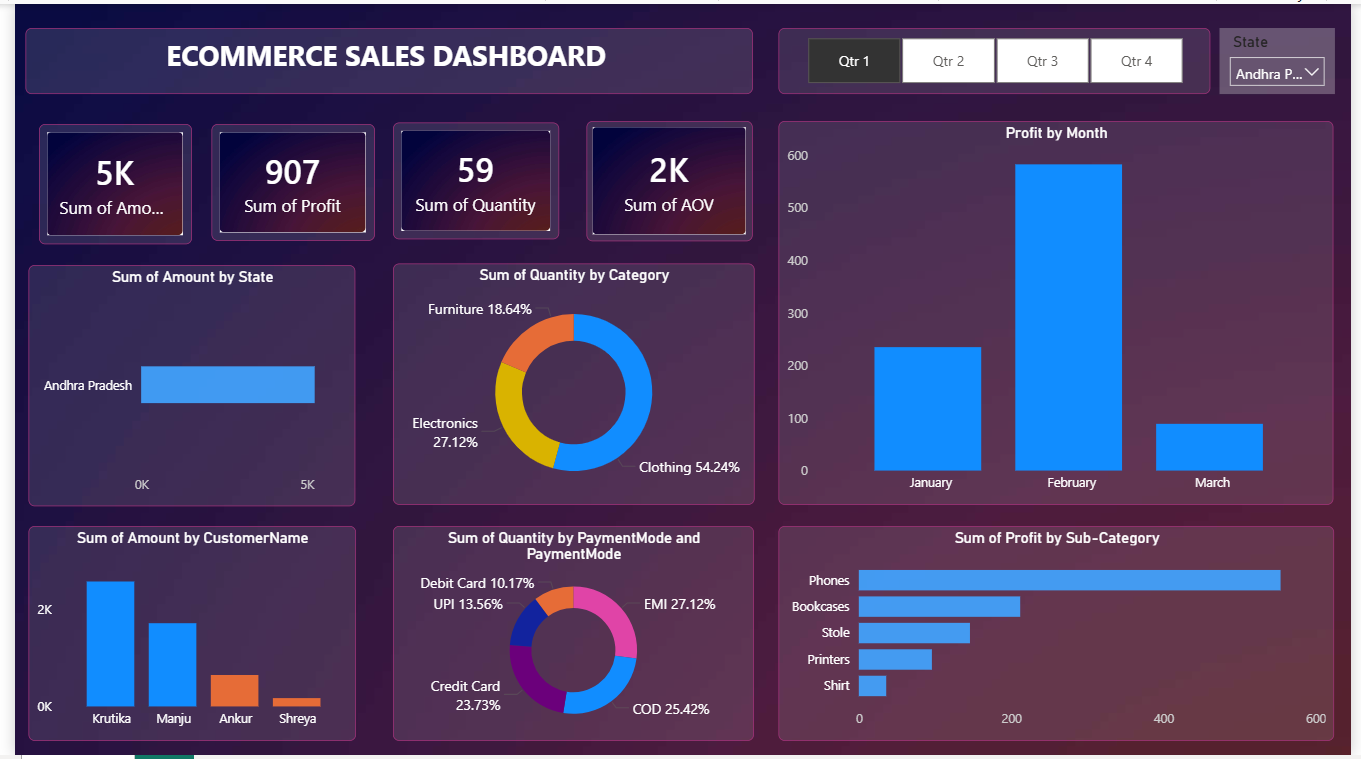

What the dashboard file says about the page in this screenshot:
{"tool":"powerbi","page":{"name":"Page 1","canvas":[1280,720],"ordinal":0},"visuals":[{"type":"textbox","box":[10.1,23,697.5,63.3],"z":0},{"type":"columnChart","title":" Profit by Month","fields":{"Category":["Orders.Order Date.Variation.Date Hierarchy.Month"],"Y":["Sum(Details.Profit)"]},"box":[732,112.2,532.1,368.2],"z":1000},{"type":"barChart","fields":{"Category":["Details.Sub-Category"],"Y":["Sum(Details.Profit)"]},"box":[731.3,500.8,532.9,206],"z":2000},{"type":"donutChart","fields":{"Category":["Details.Category"],"Y":["Sum(Details.Quantity)"]},"box":[362.4,248.8,346.6,231.5],"z":3000},{"type":"donutChart","fields":{"Category":["Details.PaymentMode","Details.Category"],"Y":["Sum(Details.Quantity)"],"Series":["Details.PaymentMode"]},"box":[362.8,500.8,345.8,206],"z":4000},{"type":"cardVisual","fields":{"Data":["Sum(Details.Quantity)"]},"box":[362.4,113.6,159.6,112.2],"z":5000},{"type":"cardVisual","fields":{"Data":["Sum(Details.Profit)"]},"box":[188.4,115,156.8,112.2],"z":6000},{"type":"cardVisual","fields":{"Data":["Sum(Details.AOV)"]},"box":[547.9,112.2,159.6,115],"z":7000},{"type":"barChart","fields":{"Category":["Orders.State"],"Y":["Sum(Details.Amount)"]},"box":[12.9,250.2,313.5,231.5],"z":8000},{"type":"columnChart","fields":{"Category":["Orders.CustomerName"],"Y":["Sum(Details.Amount)"]},"box":[13.2,500.8,313.7,206],"z":9000},{"type":"slicer","fields":{"Values":["Orders.State"]},"box":[1154.8,23,110.7,63.3],"z":10000},{"type":"slicer","fields":{"Values":["Orders.Order Date.Variation.Date Hierarchy.Quarter"]},"box":[732,23,414.2,63.3],"z":11000},{"type":"cardVisual","fields":{"Data":["Sum(Details.Amount)"]},"box":[23,115,146.7,115],"z":12000}]}

Visuals, with their boxes in screenshot pixels (x1, y1, x2, y2), scaled from the page's 1280x720 canvas onto the 1361x759 screenshot:
textbox: 11:24:752:91
" Profit by Month" columnChart: 778:118:1344:506
barChart - Details.Sub-Category x Sum(Details.Profit): 778:528:1344:745
donutChart - Details.Category x Sum(Details.Quantity): 385:262:754:506
donutChart - Details.PaymentMode x Details.Category: 386:528:753:745
cardVisual - Sum(Details.Quantity): 385:120:555:238
cardVisual - Sum(Details.Profit): 200:121:367:240
cardVisual - Sum(Details.AOV): 583:118:752:240
barChart - Orders.State x Sum(Details.Amount): 14:264:347:508
columnChart - Orders.CustomerName x Sum(Details.Amount): 14:528:348:745
slicer - Orders.State: 1228:24:1346:91
slicer - Orders.Order Date.Variation.Date Hierarchy.Quarter: 778:24:1219:91
cardVisual - Sum(Details.Amount): 24:121:180:242
